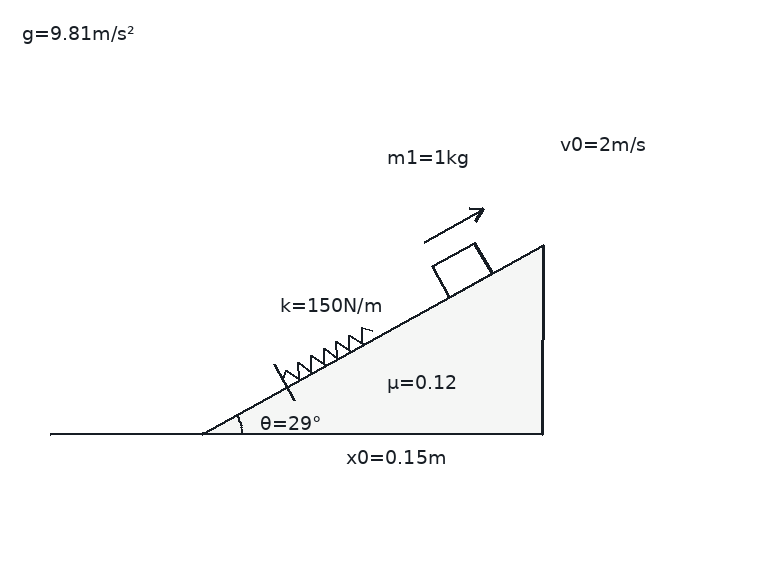block: (430, 240, 494, 299)
ramp: (200, 243, 544, 436)
spring: (281, 325, 373, 381)
